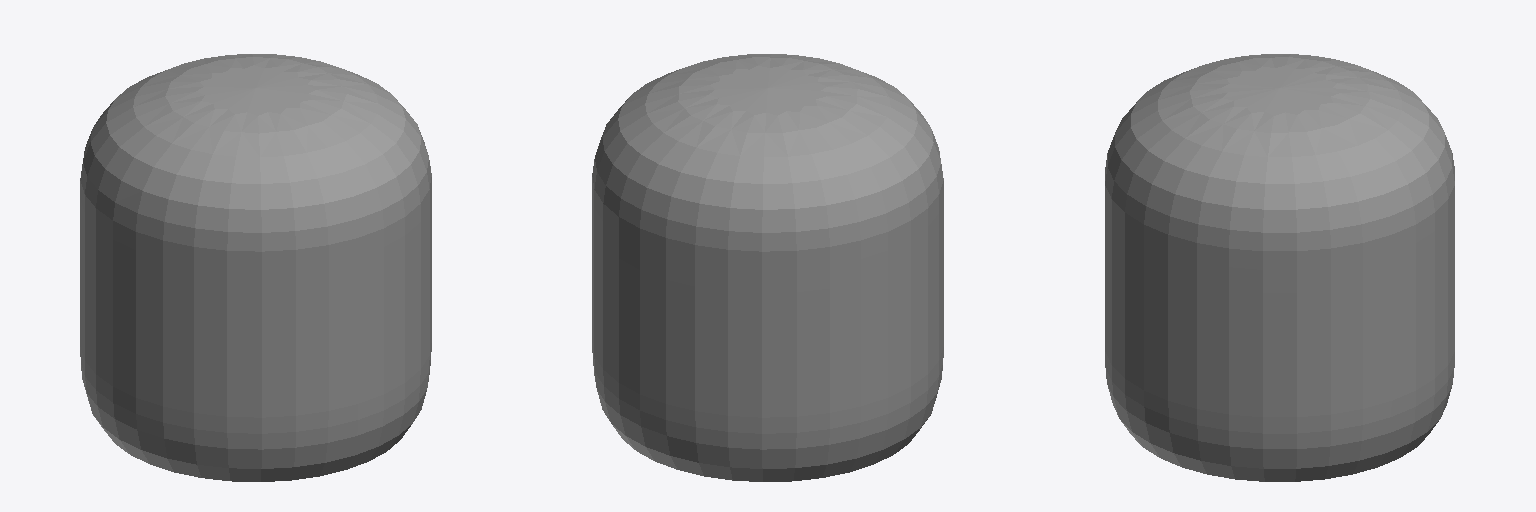
File: Head.obj
The picture shows the model from 3 angles: view 1: azimuth 30°, elevation 25°; view 2: azimuth 150°, elevation 25°; view 3: azimuth 270°, elevation 25°; orthographic projection.
Parts seen in each view (by area): view 1: Head; view 2: Head; view 3: Head.
Part boxes in pixels (x1,y1,x2,y2): Head: (80, 54, 431, 481); Head: (592, 54, 943, 481); Head: (1105, 54, 1454, 481).
Size of the model in its own units: 0.5946 by 0.629 by 0.5946.